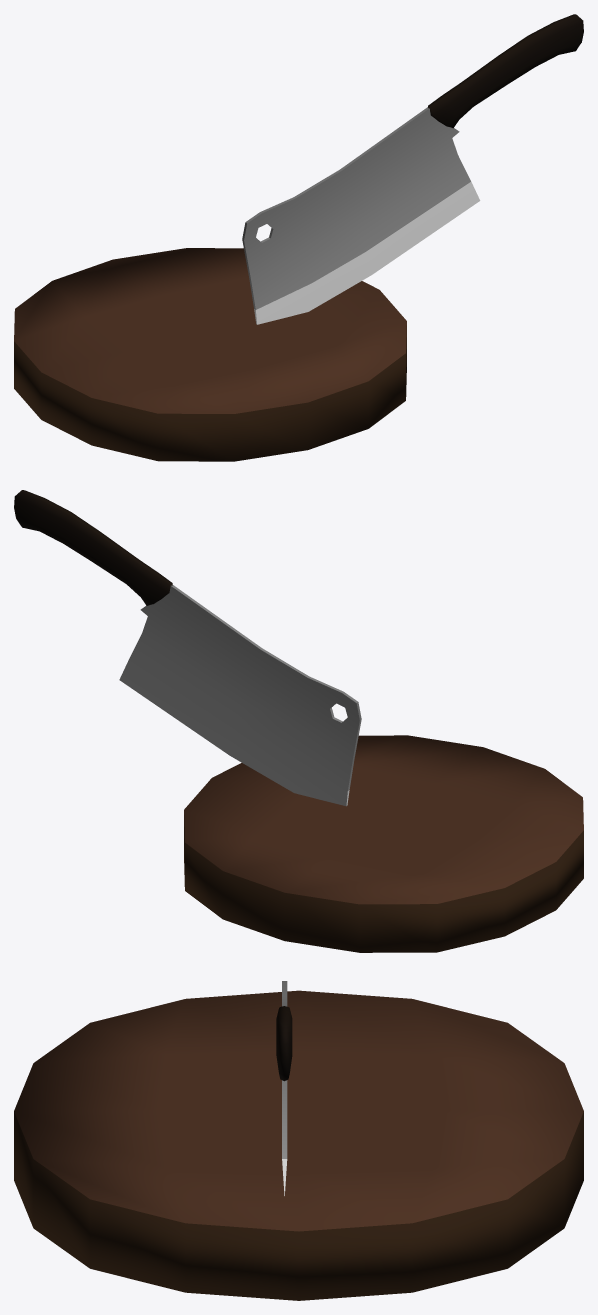
File: PemotongDaging.fbx
3 renders of one model, top to bottom at view 1: azimuth 30°, elevation 25°; view 2: azimuth 150°, elevation 25°; view 3: azimuth 270°, elevation 25°, orthographic. The views are drawn at different scales.
Visible parts, largest first — view 1: PemotongDaging_LOD0; view 2: PemotongDaging_LOD0; view 3: PemotongDaging_LOD0.
Boxes of the visible parts, x1,y1,x2,y2 form: PemotongDaging_LOD0: (14, 14, 583, 461); PemotongDaging_LOD0: (14, 490, 583, 952); PemotongDaging_LOD0: (14, 981, 583, 1300).
Size of what is drawn, in the model's own units: 47.49 by 23.63 by 29.88.
